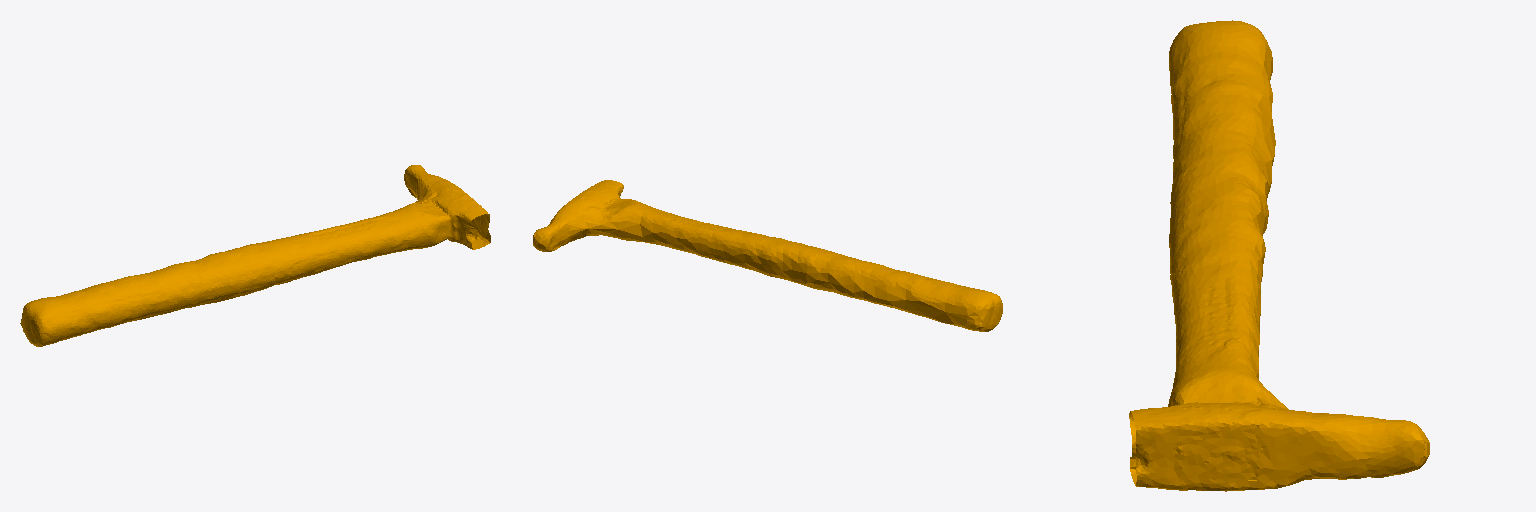
The robot description file, URDF, robot "model.urdf":
<?xml version="1.0" ?>
        <robot name="model.urdf">
        <link name="baseLink">
            <contact>
                <lateral_friction value="0.8"/>
                <rolling_friction value="0.001"/>
                <contact_cfm value="0.0"/>
                <contact_erp value="1.0"/>
            </contact>
            <inertial>
                <origin xyz="0.07 0.0 0.0" rpy="0 0 0"/>
                <mass value="0.253"/>
                <inertia ixx="0.001" ixy="0" ixz="0" iyy="0.001" iyz="0" izz="0.001"/>
            </inertial>
            <visual>
            <geometry>
                <mesh filename="hammer_2.obj" scale="1 1 1"/>
            </geometry>
            <!-- The following material makes the object white in Isaac Gym, so we comment it out.
            <material name="white"> <color rgba="1. 1. 1. 1."/> </material>
            -->
            </visual>
            <collision>
            <geometry>
                <mesh filename="hammer_2.obj" scale="1 1 1"/>
            </geometry>
            </collision>
        </link>
        </robot>

--- Render facts (derived) ---
The picture shows the robot from 3 angles, left to right: view 1: azimuth 30°, elevation 25°; view 2: azimuth 150°, elevation 25°; view 3: azimuth 270°, elevation 25°; orthographic projection.
Robot: model.urdf — 1 links, 0 joints (none); root link baseLink; default pose: every joint at zero.
Links seen in each view (by area): view 1: baseLink; view 2: baseLink; view 3: baseLink.
Link boxes in pixels (box(x1,y1,x2,y2)): baseLink: box(20, 165, 490, 346); baseLink: box(533, 180, 1002, 331); baseLink: box(1129, 20, 1429, 491).
Size in the robot's own frame: 0.2702 by 0.0806 by 0.026 metres.
1 mesh visuals loaded from 1 distinct referenced files (1 OBJ).
